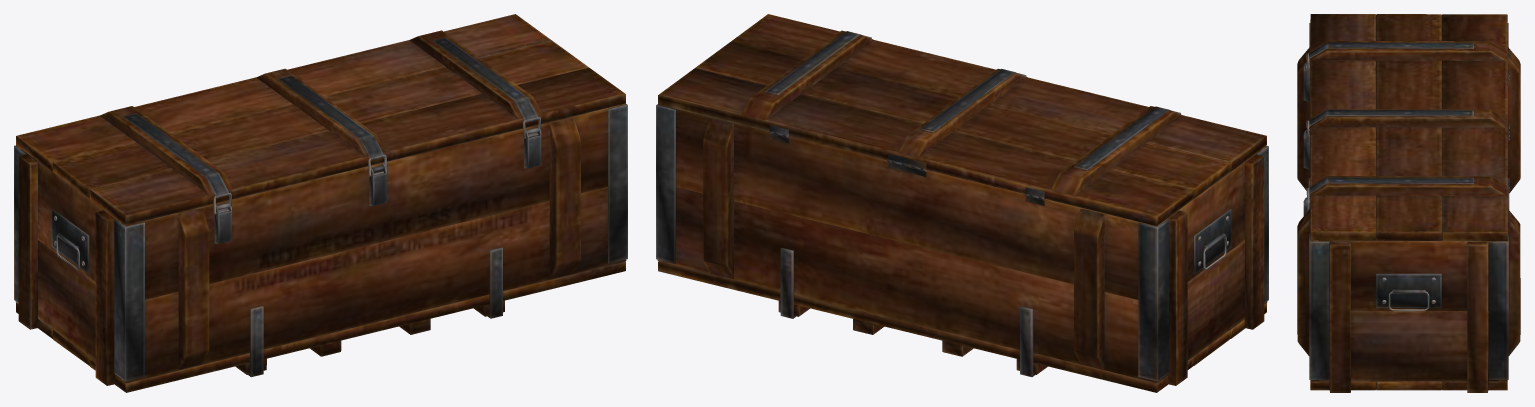
File: crate_a-CHBDrDAQ.glb
3 renders of one model, left to right at view 1: azimuth 30°, elevation 25°; view 2: azimuth 150°, elevation 25°; view 3: azimuth 270°, elevation 25°, orthographic. The views are drawn at different scales.
Parts seen in each view (by area): view 1: wooden_military_crate, wooden_military_crate_lid; view 2: wooden_military_crate, wooden_military_crate_lid; view 3: wooden_military_crate_lid, wooden_military_crate.
Boxes of the visible parts, <box> form: wooden_military_crate: <box>14,103,627,392</box>; wooden_military_crate_lid: <box>16,14,625,225</box>; wooden_military_crate: <box>656,104,1268,392</box>; wooden_military_crate_lid: <box>658,14,1266,225</box>; wooden_military_crate_lid: <box>1306,14,1509,240</box>; wooden_military_crate: <box>1297,23,1520,392</box>.
Size of the model in its own units: 1.24 by 0.4639 by 0.5198.
Materials: 1 (1 with a texture image).
